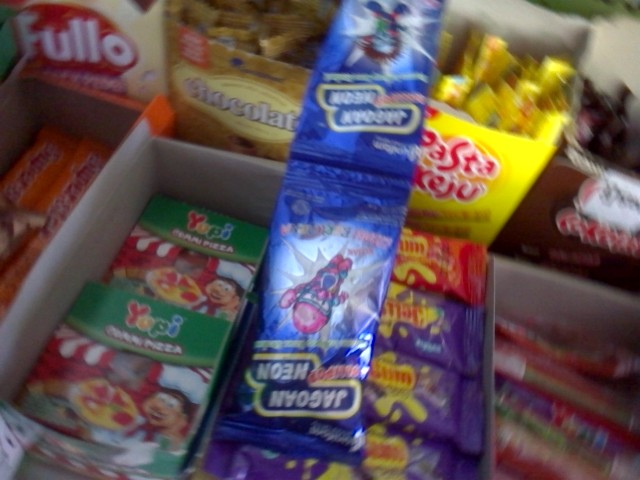jagoan neon: (211, 162, 409, 465), (286, 1, 446, 189)
